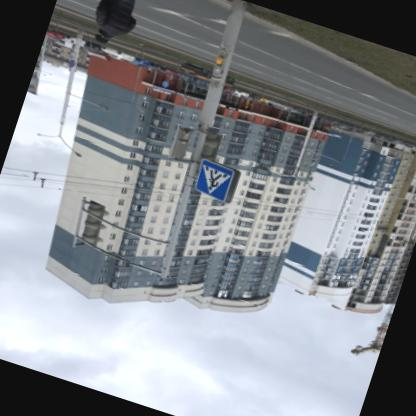crosswalk: (192, 158, 240, 206)
